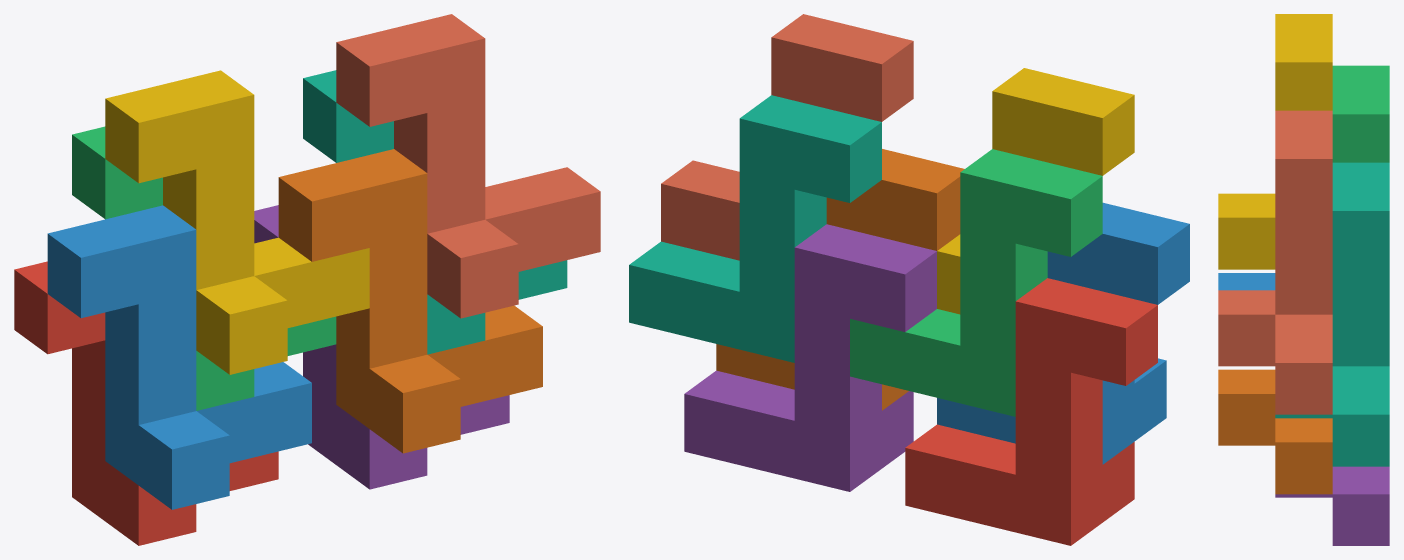
The model's file is tiling.obj.
The picture shows the model from 3 angles, left to right: view 1: azimuth 30°, elevation 25°; view 2: azimuth 150°, elevation 25°; view 3: azimuth 270°, elevation 25°; orthographic projection. The views are drawn at different scales.
Visible parts, largest first — view 1: copy_1_domain_2, copy_1_domain_6, copy_1_domain_8, copy_1_domain_4, copy_1_domain_1, copy_1_domain_5, copy_1_domain_7, copy_1_domain_3; view 2: copy_1_domain_1, copy_1_domain_5, copy_1_domain_7, copy_1_domain_3, copy_1_domain_8, copy_1_domain_2, copy_1_domain_4, copy_1_domain_6; view 3: copy_1_domain_8, copy_1_domain_7, copy_1_domain_4, copy_1_domain_6, copy_1_domain_3, copy_1_domain_5, copy_1_domain_2.
Boxes of the visible parts, x1=… form: copy_1_domain_2: x1=47, y1=205, x2=311, y2=509; copy_1_domain_6: x1=278, y1=149, x2=542, y2=453; copy_1_domain_8: x1=336, y1=14, x2=600, y2=318; copy_1_domain_4: x1=105, y1=70, x2=369, y2=374; copy_1_domain_1: x1=14, y1=261, x2=278, y2=545; copy_1_domain_5: x1=254, y1=205, x2=509, y2=489; copy_1_domain_7: x1=303, y1=70, x2=567, y2=354; copy_1_domain_3: x1=72, y1=126, x2=336, y2=410; copy_1_domain_1: x1=905, y1=278, x2=1157, y2=545; copy_1_domain_5: x1=684, y1=224, x2=936, y2=491; copy_1_domain_7: x1=629, y1=95, x2=881, y2=362; copy_1_domain_3: x1=850, y1=149, x2=1102, y2=416; copy_1_domain_8: x1=661, y1=14, x2=913, y2=260; copy_1_domain_2: x1=937, y1=202, x2=1189, y2=464; copy_1_domain_4: x1=937, y1=68, x2=1134, y2=314; copy_1_domain_6: x1=716, y1=149, x2=964, y2=410; copy_1_domain_8: x1=1218, y1=110, x2=1332, y2=414; copy_1_domain_7: x1=1275, y1=162, x2=1389, y2=466; copy_1_domain_4: x1=1218, y1=14, x2=1332, y2=269; copy_1_domain_6: x1=1218, y1=369, x2=1332, y2=494; copy_1_domain_3: x1=1332, y1=65, x2=1389, y2=162; copy_1_domain_5: x1=1275, y1=466, x2=1389, y2=545; copy_1_domain_2: x1=1218, y1=273, x2=1275, y2=290.
Bounding box in the file's own units: 9 × 7 × 3.
